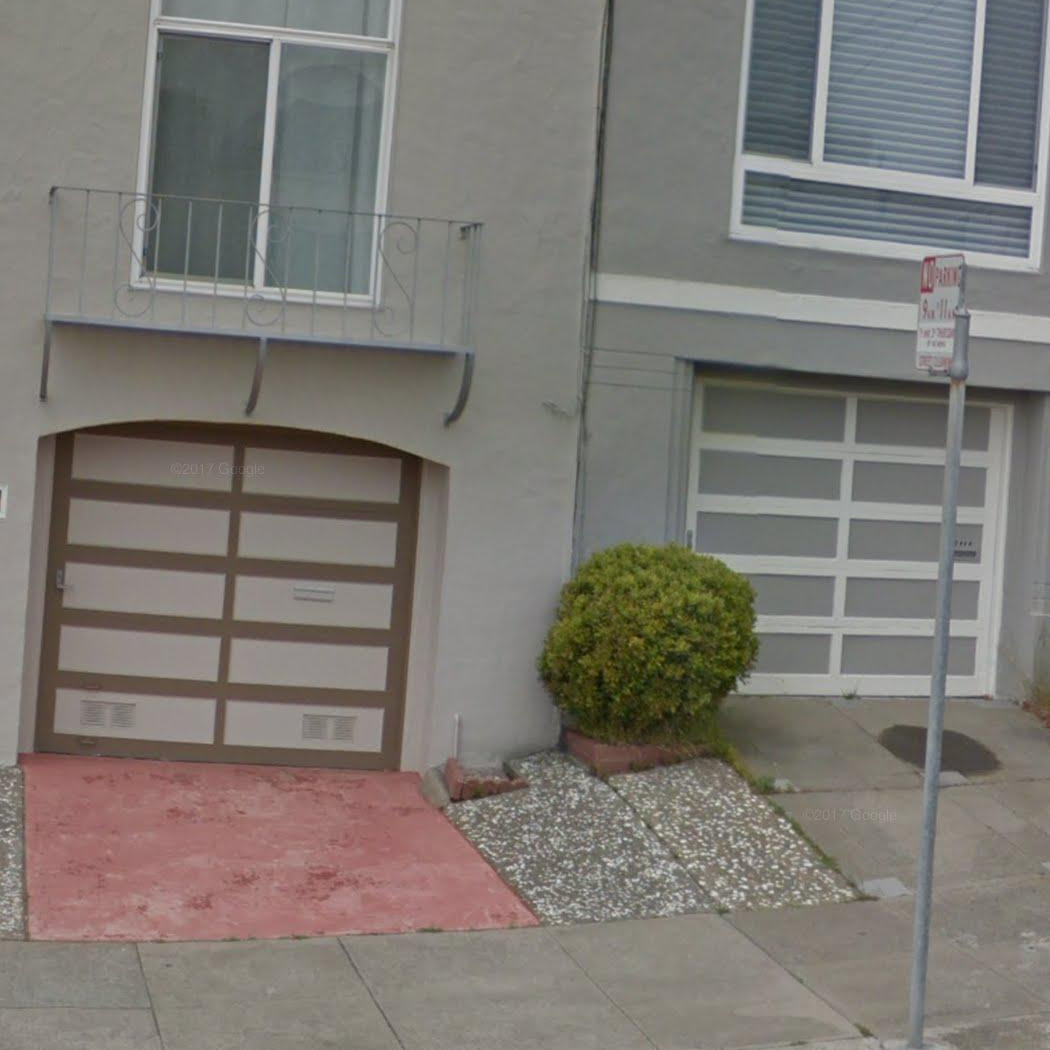No Parking: (914, 252, 966, 372)
